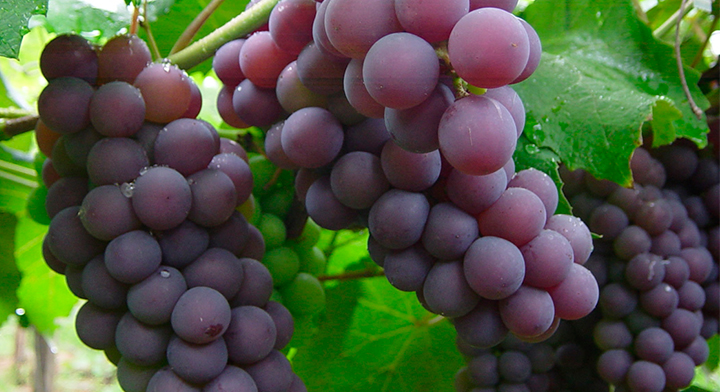Red Grapes: (272, 14, 603, 338), (32, 39, 295, 384), (549, 115, 703, 390)
